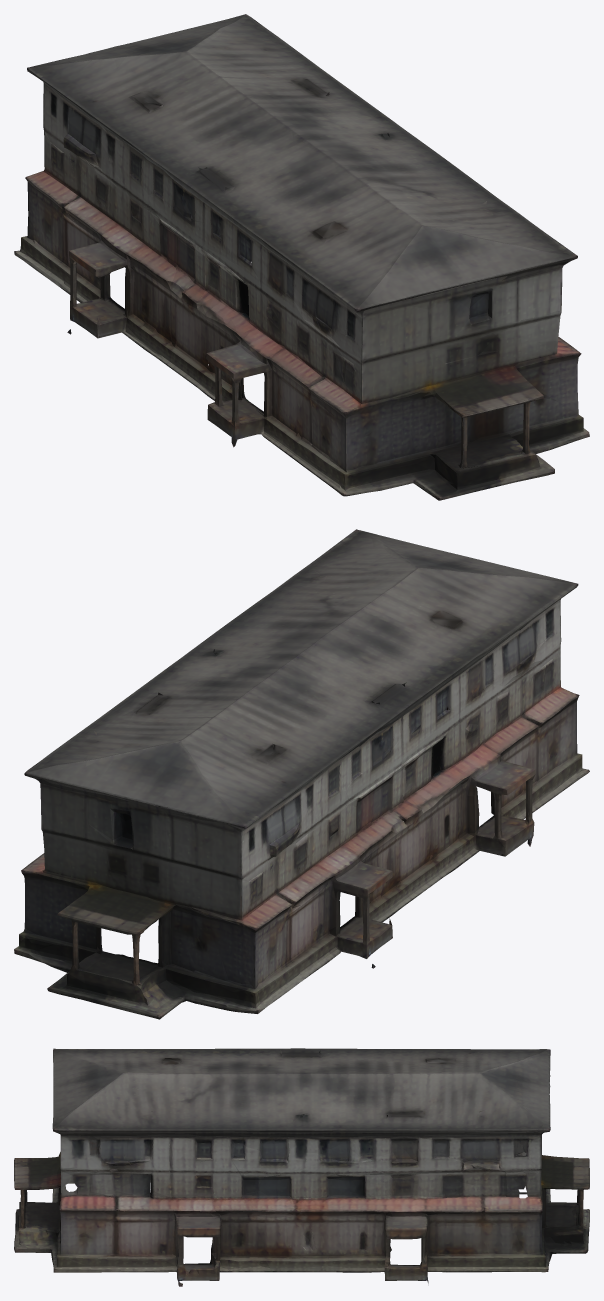
The model's file is SSSR_House_2.fbx.
The picture shows the model from 3 angles, top to bottom: view 1: azimuth 30°, elevation 25°; view 2: azimuth 150°, elevation 25°; view 3: azimuth 270°, elevation 25°; orthographic projection. The views are drawn at different scales.
Visible parts, largest first — view 1: world.001; view 2: world.001; view 3: world.001.
Boxes of the visible parts, x1,y1,x2,y2 form: world.001: (14, 14, 589, 500); world.001: (14, 529, 589, 1019); world.001: (14, 1048, 589, 1286).
Bounding box in the file's own units: 0.4543 × 1 × 0.3117.
